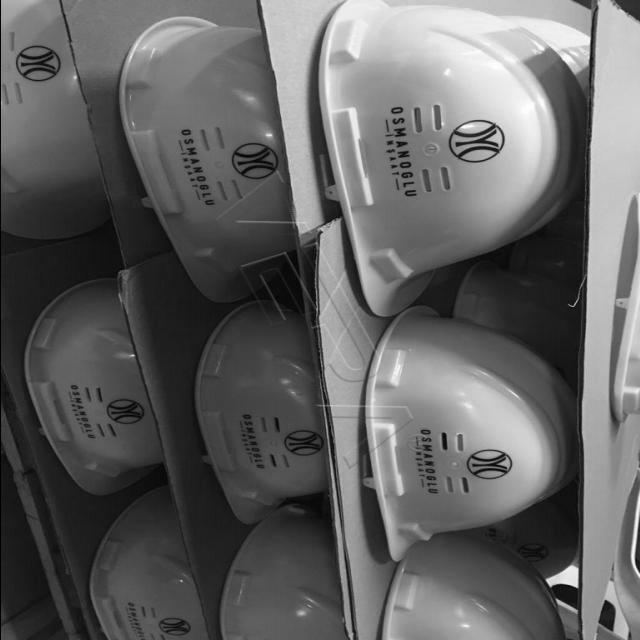construction helmet: (315, 0, 589, 317), (116, 16, 295, 303), (360, 307, 562, 561)
